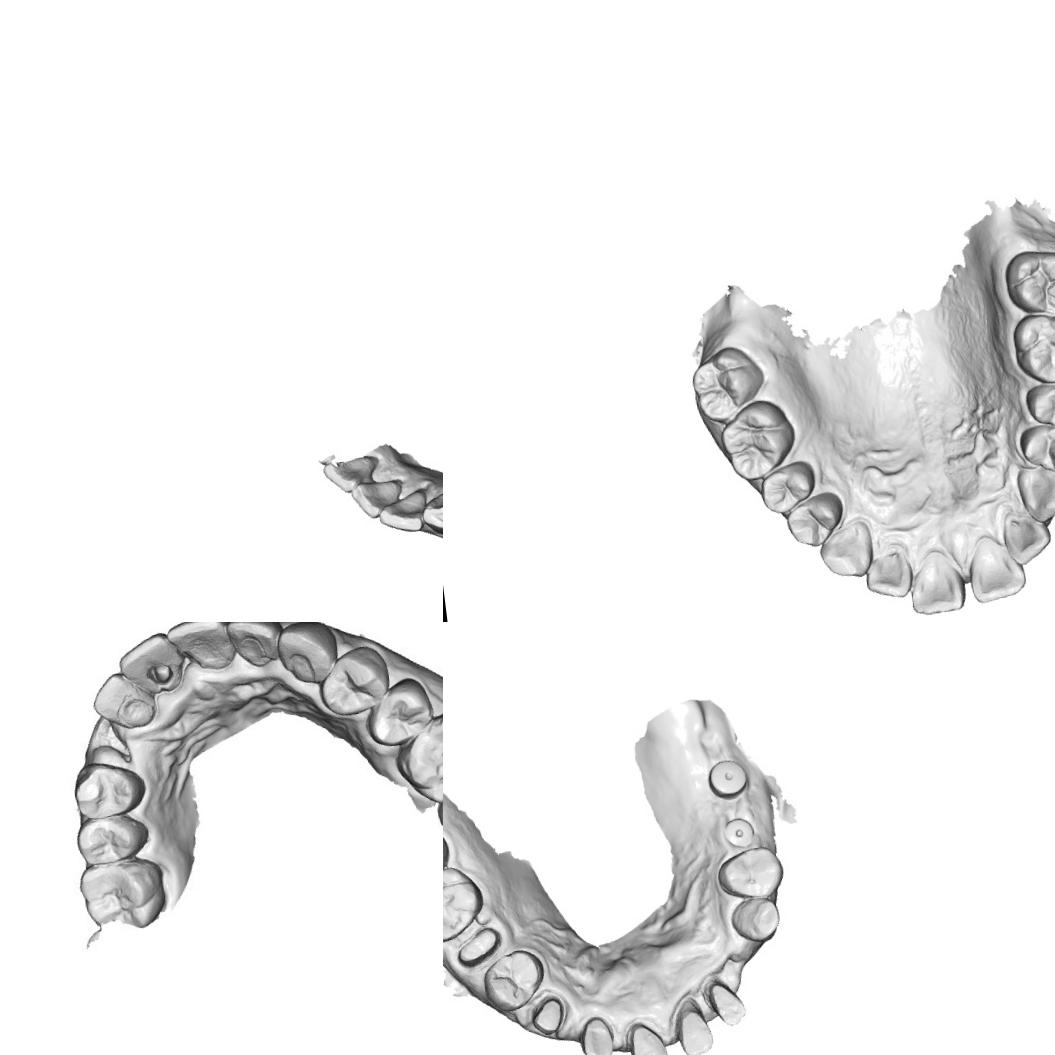canine: (814, 516, 878, 582), (275, 622, 337, 687), (725, 894, 784, 946), (1013, 458, 1055, 526), (418, 484, 443, 541)
crown: (451, 923, 505, 970), (704, 976, 750, 1030), (671, 1003, 716, 1055), (575, 1011, 617, 1055), (625, 1017, 672, 1055), (528, 994, 568, 1038)
implant: (705, 755, 752, 801), (720, 814, 758, 852)
incisor: (964, 530, 1030, 606), (902, 546, 966, 618), (121, 633, 190, 695), (1000, 507, 1055, 570), (860, 544, 916, 604), (171, 622, 239, 670), (94, 672, 148, 731), (347, 473, 410, 522), (374, 486, 433, 536), (320, 453, 383, 497), (227, 622, 281, 672)
molar: (717, 394, 798, 486), (686, 340, 770, 427), (80, 856, 165, 932), (392, 708, 443, 804), (999, 242, 1055, 324), (1007, 307, 1055, 391), (443, 861, 489, 947)
premolar: (478, 946, 550, 1016), (72, 758, 152, 820), (318, 650, 390, 717), (712, 844, 787, 904), (74, 810, 150, 868), (369, 682, 435, 746), (782, 489, 848, 552), (756, 458, 822, 518), (1016, 419, 1055, 479), (1022, 377, 1055, 434)
